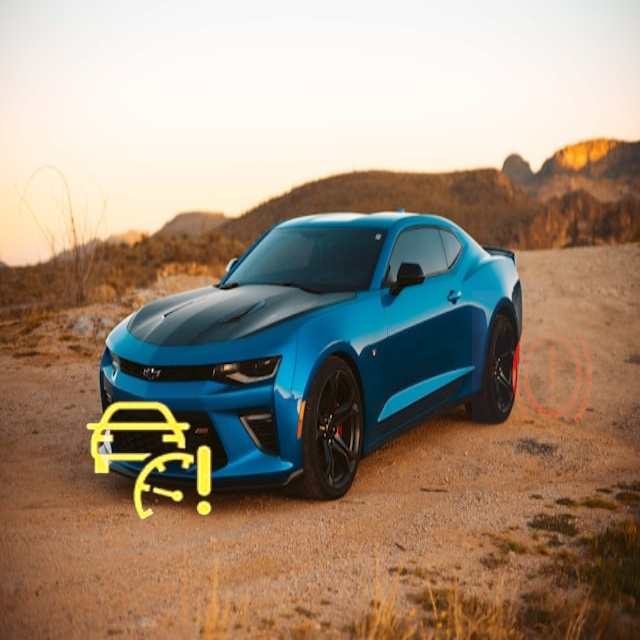symbol: (65, 378, 232, 545), (472, 291, 632, 451), (161, 43, 286, 168)
